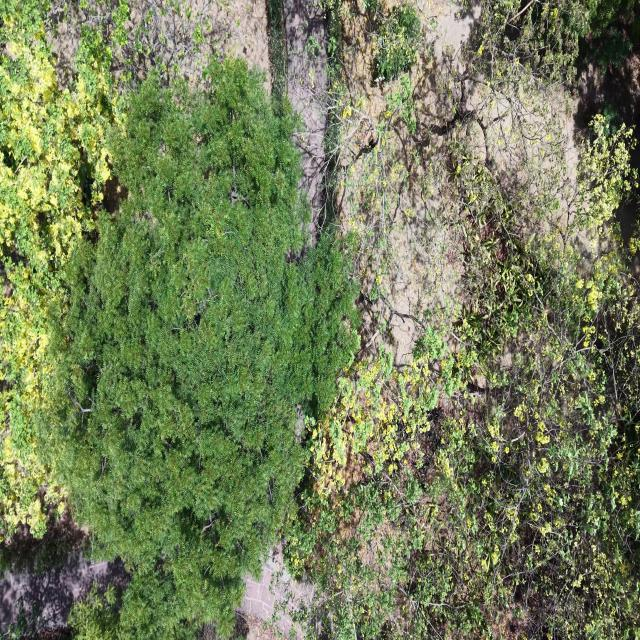DRY_AREA: (339, 0, 521, 368), (339, 0, 480, 367), (0, 510, 128, 634), (112, 0, 271, 90), (386, 185, 459, 367), (0, 550, 128, 633), (0, 550, 128, 632), (284, 0, 327, 234), (284, 0, 327, 233), (284, 0, 327, 232), (284, 0, 327, 229), (285, 0, 326, 229), (240, 546, 314, 638), (575, 53, 639, 131), (417, 0, 480, 60), (241, 558, 281, 620), (231, 611, 282, 639), (238, 613, 281, 639)
PATHWAYS: (284, 0, 327, 231)
VEGETATION_TREE: (0, 0, 639, 639), (0, 3, 357, 637), (286, 3, 639, 638), (3, 5, 356, 636), (41, 60, 358, 638), (286, 149, 639, 638), (0, 0, 210, 539), (0, 2, 119, 540), (479, 0, 639, 80), (470, 0, 589, 81), (0, 501, 87, 575), (369, 3, 421, 81), (582, 0, 639, 68), (68, 583, 118, 639)
